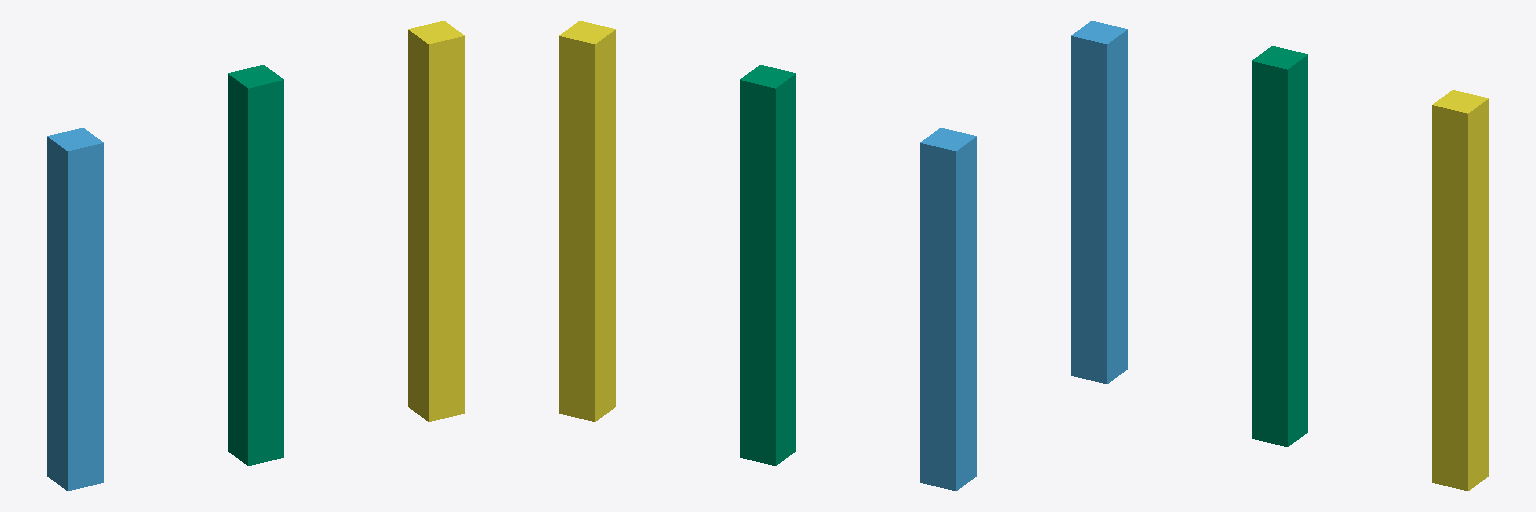
URDF robot description (two_manipulator_arm):
<?xml version="1.0"?>
<robot name="two_manipulator_arm">
  <link name="base_link" />

  <joint name="joint1" type="revolute">
    <parent link="base_link"/>
    <child link="link1"/>
    <origin xyz="0.0 0 0"/>
    <axis xyz="0 0 1"/>
    <limit lower="-3.14" upper="3.14" effort="10" velocity="1.0"/>
  </joint>

  <link name="link1">
    <inertial>
      <mass value="1.0"/>
      <origin xyz="0 0 0"/>
      <inertia ixx="0.1" ixy="0.0" ixz="0.0" iyy="0.1" iyz="0.0" izz="0.1"/>
    </inertial>
    <visual>
      <origin xyz="0 0 0"/>
      <geometry>
        <box size="0.1 0.1 0.9"/> <!-- Define the size of link1 -->
      </geometry>
    </visual>
  </link>

  <!-- Define the end-effector link -->
    
  <joint name="joint2" type="revolute">
    <parent link="link1"/>
    <child link="link2"/>
    <origin xyz="0.5 0 0"/>
    <axis xyz="0 0 1"/>
    <limit lower="-3.14" upper="3.14" effort="10" velocity="1.0"/>
  </joint>

  <link name="link2">
    <inertial>
      <mass value="1.0"/>
      <origin xyz="0 0 0"/>
      <inertia ixx="0.1" ixy="0.0" ixz="0.0" iyy="0.1" iyz="0.0" izz="0.1"/>
    </inertial>
    <visual>
      <origin xyz="0 0 0"/>
      <geometry>
        <box size="0.1 0.1 1.0"/> <!-- Define the size of link2 -->
      </geometry>
    </visual>
  </link>

  <joint name="joint2" type="fixed">
    <parent link="link2"/>
    <child link="end_effector"/>
    <origin xyz="0.5 0 0"/>
    <axis xyz="0 0 1"/>
    <limit lower="-3.14" upper="3.14" effort="10" velocity="1.0"/>
  </joint>

  <link name="end_effector">
    <inertial>
      <mass value="1.0"/>
      <origin xyz="0 0 0"/>
      <inertia ixx="0.1" ixy="0.0" ixz="0.0" iyy="0.1" iyz="0.0" izz="0.1"/>
    </inertial>
    <visual>
      <origin xyz="0 0 0"/>
      <geometry>
        <box size="0.1 0.1 1.0"/> <!-- Define the size of link2 -->
      </geometry>
    </visual>
  </link>


  
</robot>

--- What the picture shows (computed from the rendered views, not written in the file) ---
3 views of the same robot in one strip: view 1: azimuth 30°, elevation 25°; view 2: azimuth 150°, elevation 25°; view 3: azimuth 330°, elevation 25° (orthographic).
Model two_manipulator_arm with 4 links and 3 joints (2 revolute, 1 fixed), rooted at base_link, posed all joints at 0.
Visible links, largest first — view 1: end_effector, link2, link1; view 2: end_effector, link2, link1; view 3: end_effector, link2, link1.
Link boxes in pixels (x1,y1,x2,y2): end_effector: (408, 21, 464, 421); link2: (228, 65, 283, 465); link1: (47, 128, 103, 490); end_effector: (559, 21, 615, 421); link2: (740, 65, 795, 465); link1: (920, 128, 976, 490); end_effector: (1432, 90, 1488, 490); link2: (1252, 46, 1307, 446); link1: (1071, 21, 1127, 383).
Size in the robot's own frame: 1.1 by 0.1 by 1 metres.
Geometry: primitives only (box / cylinder / sphere), no mesh files.